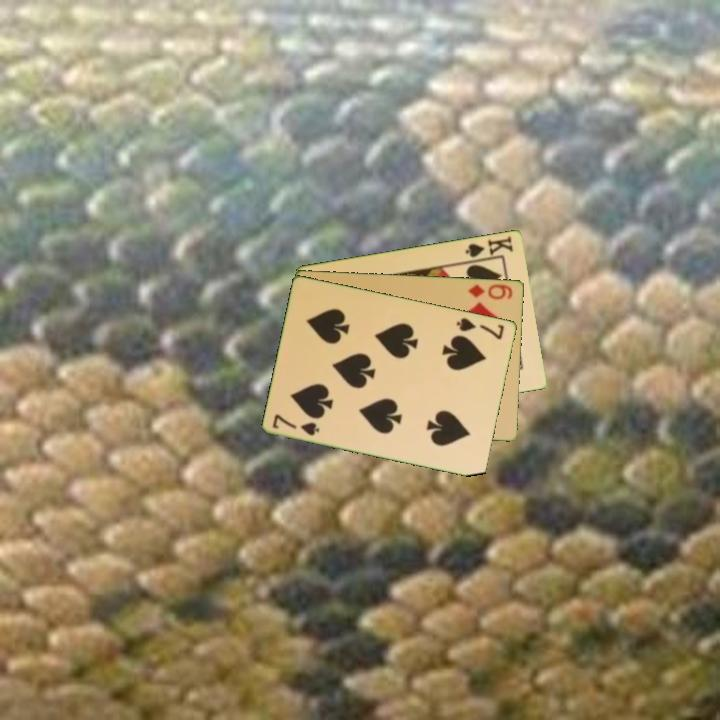6d: (465, 280, 516, 302)
7s: (453, 314, 508, 342), (269, 410, 323, 438)
Ks: (462, 232, 516, 264)
